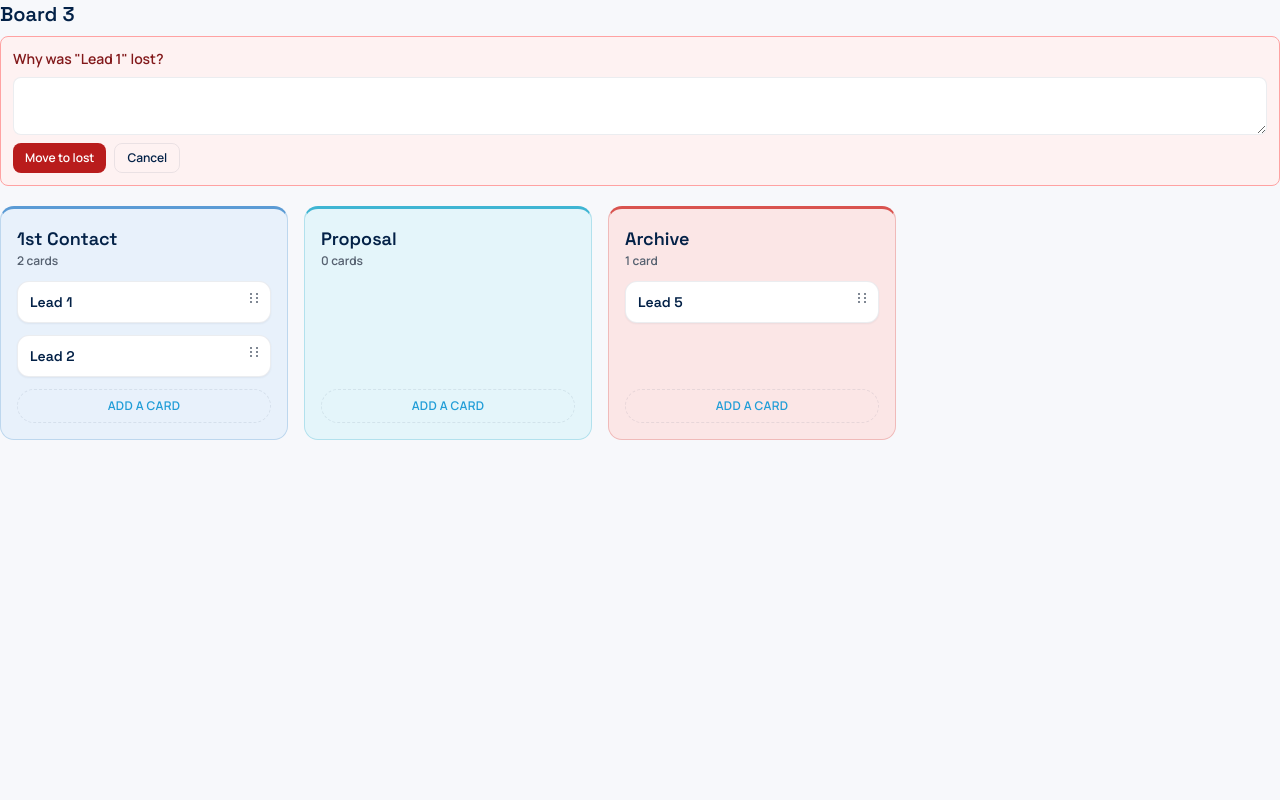
Test: moving a card into the lost stage › cancel closes the form without any request
Expected: the text "Lead 1" is shown, left=30, top=293, right=72, bottom=311
Click the button "Cancel": (147, 158) left=114, top=143, right=180, bottom=173
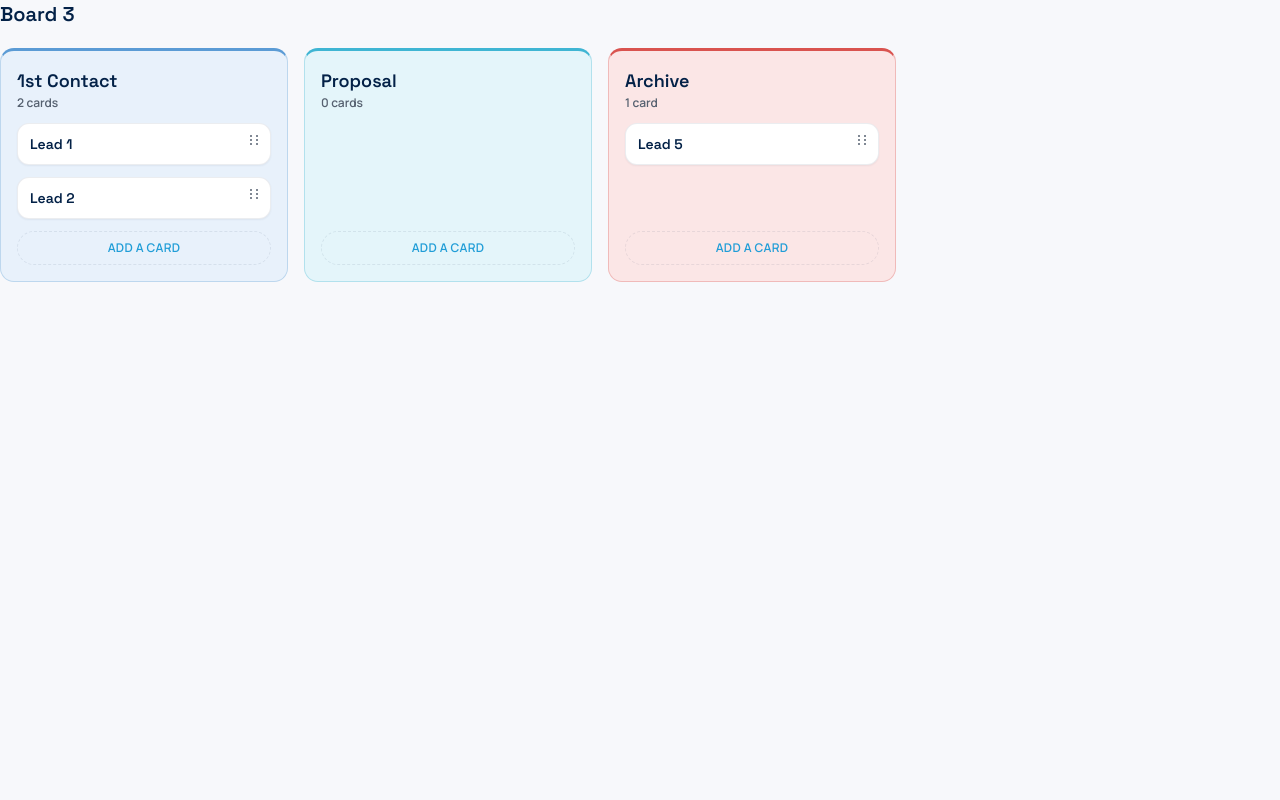
Result: the dialog with test id "loss-prompt" is gone
